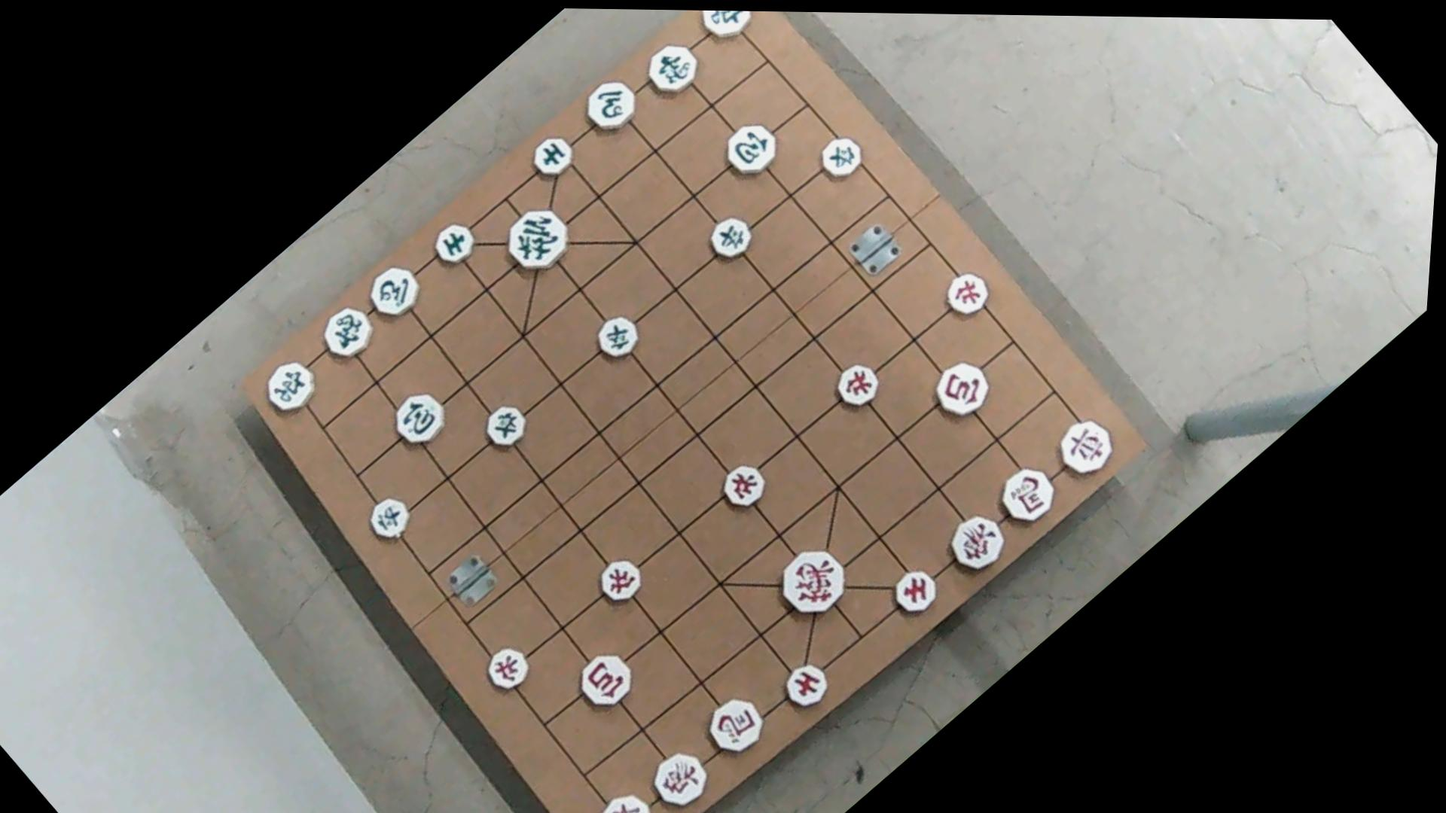cha_green: (255, 352, 323, 417), (691, 11, 758, 47)
cha_red: (1048, 410, 1124, 483), (589, 783, 667, 813)
jol_green: (587, 309, 647, 366), (474, 399, 534, 455), (362, 488, 421, 544), (701, 209, 760, 264), (811, 131, 869, 185)
jol_red: (824, 353, 889, 415), (711, 455, 773, 514), (935, 263, 996, 321), (477, 639, 537, 696), (589, 552, 648, 608)
ma_green: (358, 257, 431, 325), (572, 74, 644, 141)
ma_red: (695, 690, 773, 765), (989, 458, 1066, 531)
po_green: (714, 114, 788, 184), (383, 385, 456, 453)
po_red: (923, 352, 999, 423), (569, 646, 642, 715)
sa_green: (523, 129, 581, 184), (426, 218, 481, 271)
sa_red: (884, 561, 948, 621), (777, 656, 837, 714)
sang_green: (311, 299, 383, 367), (636, 35, 707, 102)
sang_red: (641, 741, 715, 812), (940, 506, 1013, 574)
wang_green: (495, 199, 580, 279)
wang_red: (767, 540, 860, 628)
